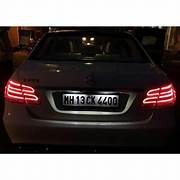number_plate: (62, 94, 119, 108)
